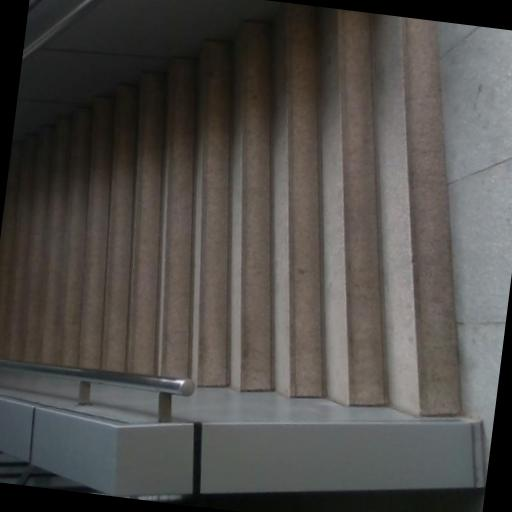stairs: (0, 3, 460, 416)
